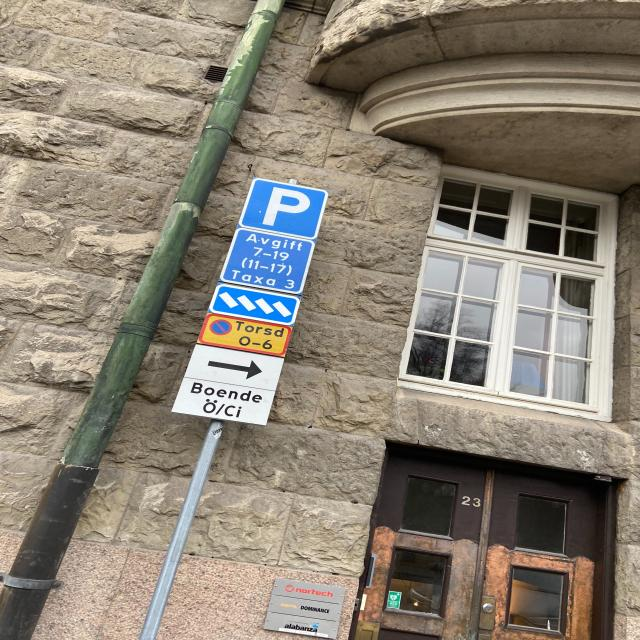psign: (239, 177, 328, 242)
